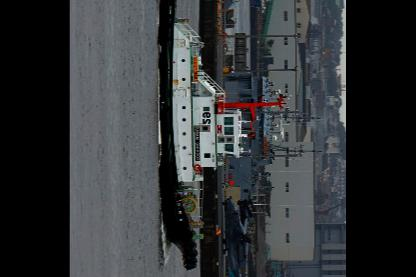Tornado: (222, 196, 258, 276)
